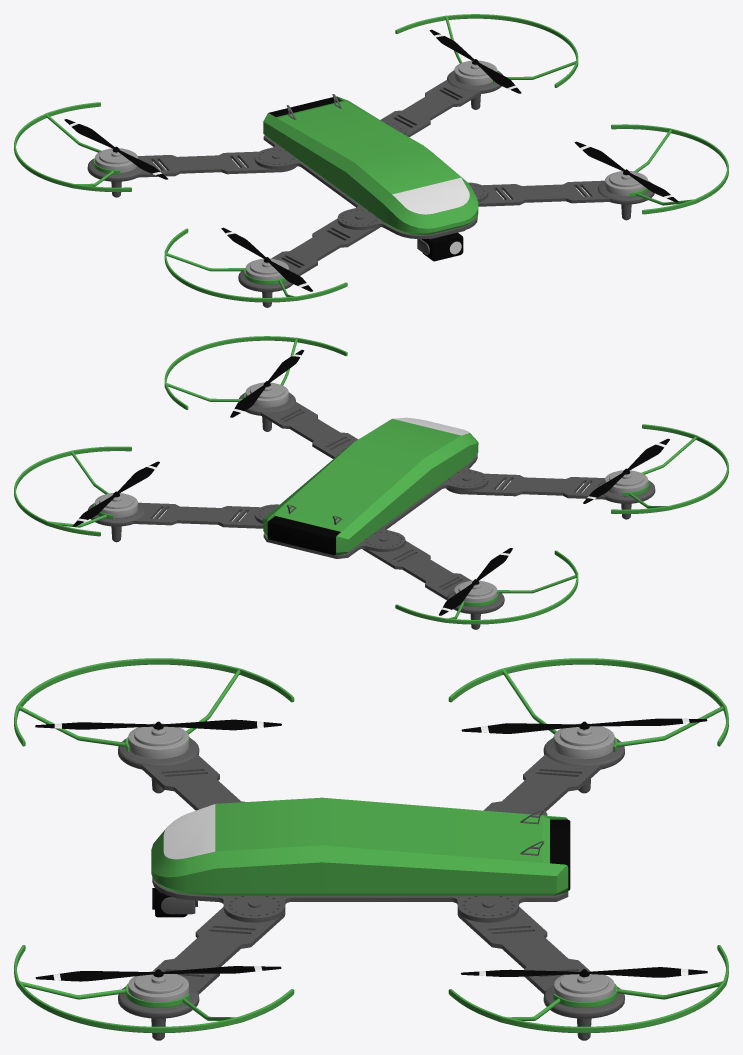
File: drone_green.glb
3 renders of one model, top to bottom at view 1: azimuth 30°, elevation 25°; view 2: azimuth 150°, elevation 25°; view 3: azimuth 270°, elevation 25°, orthographic. The views are drawn at different scales.
Parts seen in each view (by area): view 1: Cube.011, Cylinder.001, Cylinder.010, Cylinder.004, Cube.001, Cylinder.009, Cylinder.006, Cylinder.002, Cylinder.005, Cube.023, Cylinder.008; view 2: Cube.011, Cylinder.001, Cylinder.010, Cylinder.004, Cube.001, Cube.025, Cylinder.005, Cylinder.002, Cylinder.009, Cylinder.006, Cylinder.008; view 3: Cube.011, Cylinder.001, Cylinder.010, Cylinder.004, Cube.001, Cylinder.002, Cylinder.006, Cylinder.005, Cylinder.009, Cube.025, Cylinder.008.
Boxes of the visible parts, x1=… form: Cube.011: x1=263, y1=96, x2=478, y2=234; Cylinder.001: x1=87, y1=70, x2=654, y2=292; Cylinder.010: x1=14, y1=14, x2=728, y2=302; Cylinder.004: x1=95, y1=60, x2=647, y2=280; Cube.001: x1=254, y1=121, x2=488, y2=239; Cylinder.009: x1=574, y1=141, x2=678, y2=202; Cylinder.006: x1=64, y1=119, x2=167, y2=179; Cylinder.002: x1=221, y1=227, x2=312, y2=291; Cylinder.005: x1=429, y1=29, x2=521, y2=93; Cube.023: x1=422, y1=232, x2=463, y2=261; Cylinder.008: x1=111, y1=94, x2=631, y2=307; Cube.011: x1=263, y1=417, x2=478, y2=555; Cylinder.001: x1=87, y1=392, x2=655, y2=614; Cylinder.010: x1=14, y1=336, x2=728, y2=624; Cylinder.004: x1=95, y1=382, x2=647, y2=602; Cube.001: x1=254, y1=444, x2=488, y2=558; Cube.025: x1=267, y1=516, x2=340, y2=555; Cylinder.005: x1=73, y1=461, x2=159, y2=526; Cylinder.002: x1=583, y1=438, x2=669, y2=503; Cylinder.009: x1=230, y1=349, x2=304, y2=417; Cylinder.006: x1=439, y1=548, x2=512, y2=615; Cylinder.008: x1=111, y1=416, x2=631, y2=629; Cube.011: x1=151, y1=797, x2=568, y2=895; Cylinder.001: x1=118, y1=738, x2=624, y2=1018; Cylinder.010: x1=14, y1=658, x2=728, y2=1033; Cylinder.004: x1=128, y1=723, x2=614, y2=1002; Cube.001: x1=152, y1=877, x2=568, y2=922; Cylinder.002: x1=35, y1=719, x2=281, y2=730; Cylinder.006: x1=461, y1=718, x2=707, y2=733; Cylinder.005: x1=461, y1=967, x2=707, y2=977; Cylinder.009: x1=35, y1=966, x2=281, y2=981; Cube.025: x1=550, y1=819, x2=570, y2=890; Cylinder.008: x1=151, y1=778, x2=591, y2=1040.
Bounding box in the file's own units: 0.2222 × 0.0264 × 0.1816.
